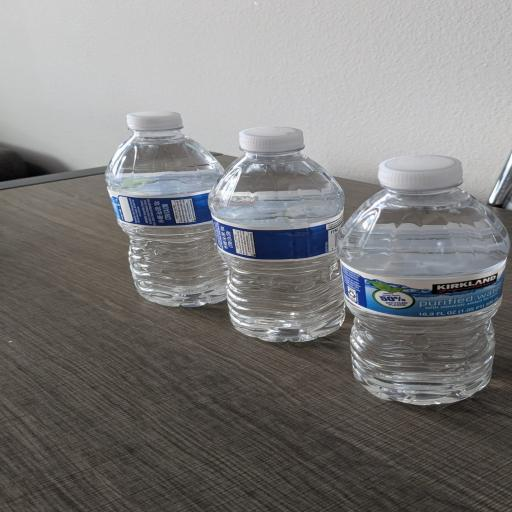waterbottle: (340, 156, 509, 404), (210, 127, 344, 342), (106, 112, 227, 306)
